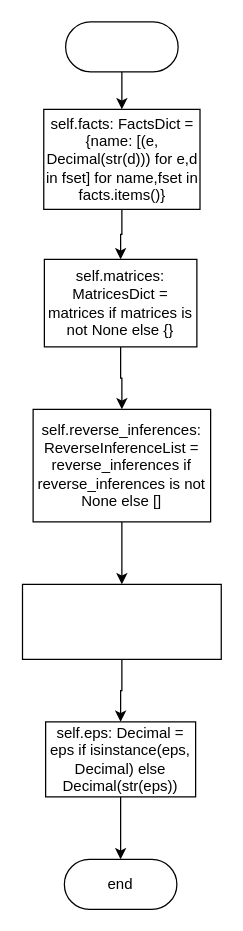
Image size: 243x931. Some labels were removed from this diagram. The shapes that lost their labels are listed below. From the top down, each one's centre as x and y in pixels, then its label:
At (x=121, y=46): "begin".
At (x=121, y=621): "self.reverse_results:Dict[str, BoundsSet] = {}".
